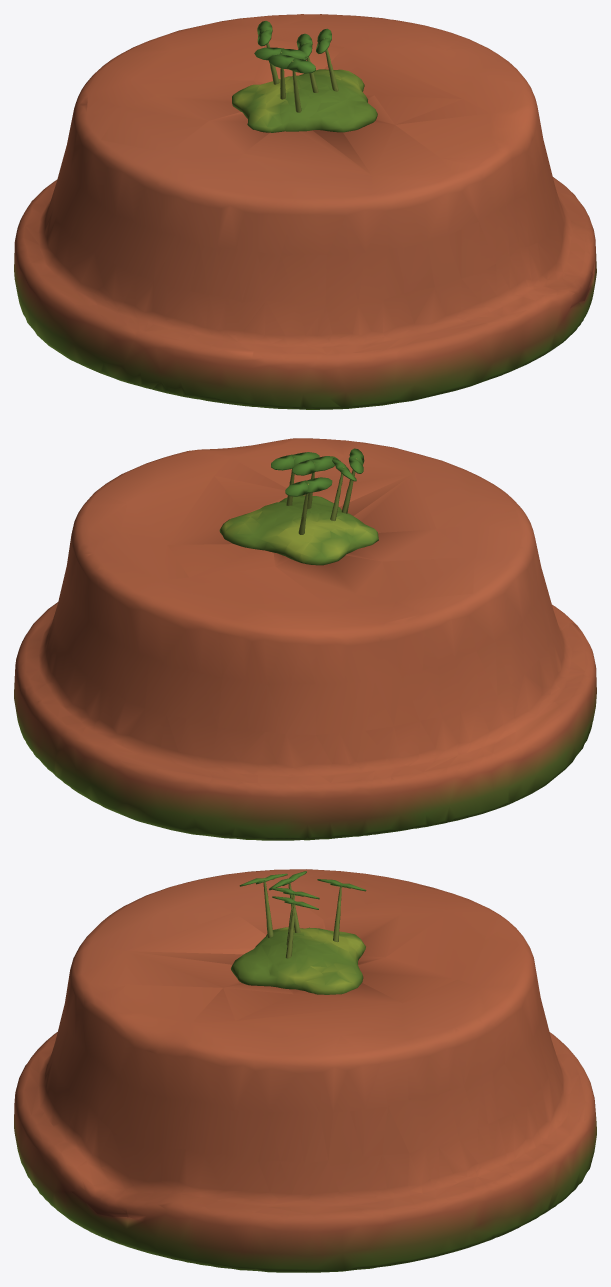
File: mire_flowerpot_lod1.glb
The picture shows the model from 3 angles, top to bottom: view 1: azimuth 30°, elevation 25°; view 2: azimuth 150°, elevation 25°; view 3: azimuth 270°, elevation 25°; orthographic projection.
Visible parts, largest first — view 1: mire_flowerpot.001; view 2: mire_flowerpot.001; view 3: mire_flowerpot.001.
Part boxes in pixels (<box>): mire_flowerpot.001: <box>14,14,596,409</box>; mire_flowerpot.001: <box>14,438,596,840</box>; mire_flowerpot.001: <box>14,869,596,1272</box>.
Bounding box in the file's own units: 21.38 × 10.46 × 21.05.
